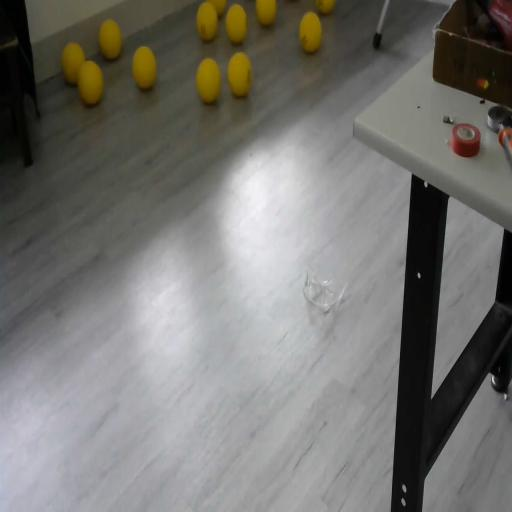FUEL: (130, 44, 158, 90), (195, 57, 222, 104), (60, 40, 87, 85), (226, 50, 252, 96), (298, 10, 322, 54), (98, 18, 122, 60), (224, 2, 248, 44), (195, 0, 218, 41), (255, 0, 278, 26), (315, 0, 336, 14)
